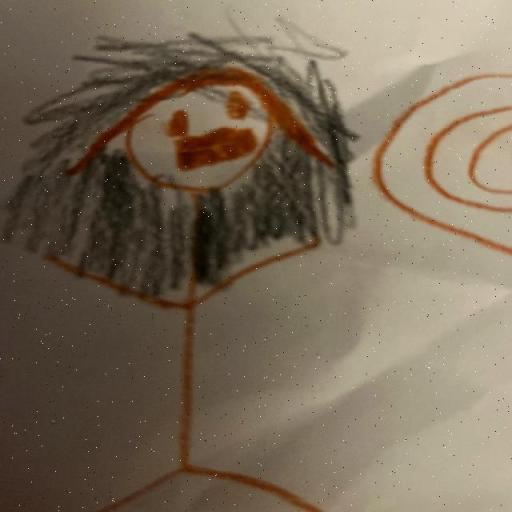person: (12, 24, 376, 512)
